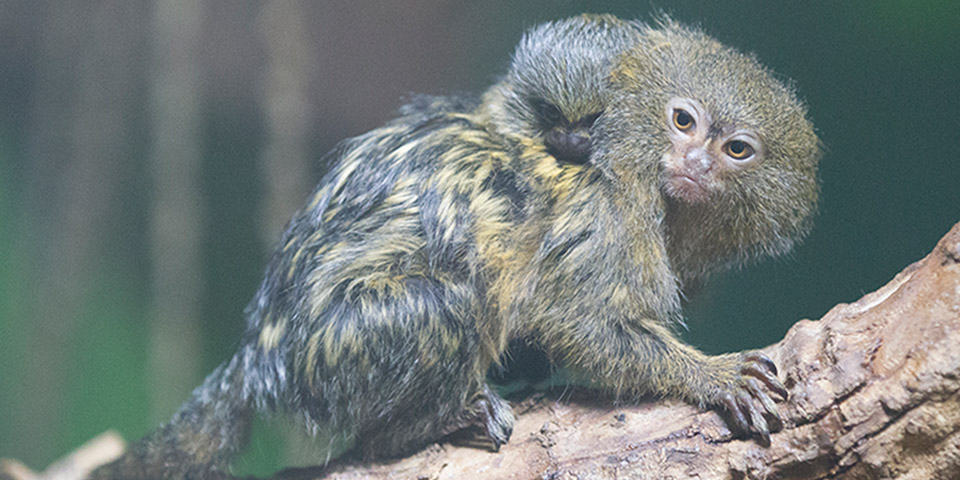PygmyMarmoset: (231, 62, 832, 445), (488, 25, 645, 147)
